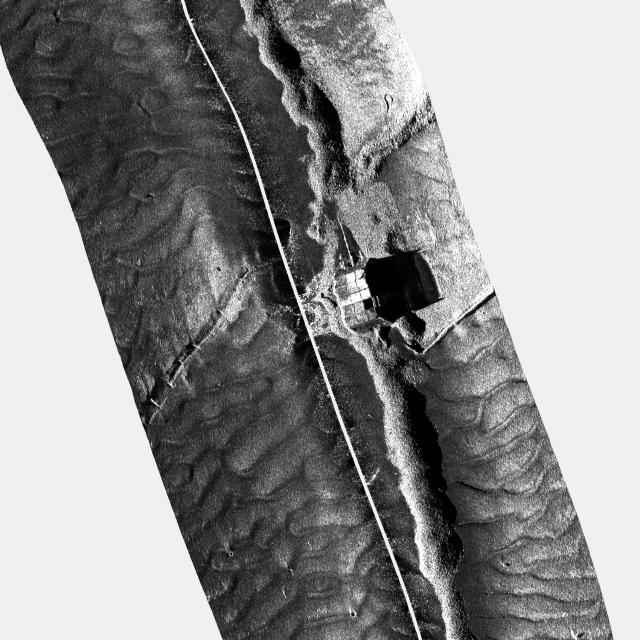other: (322, 252, 402, 332)
